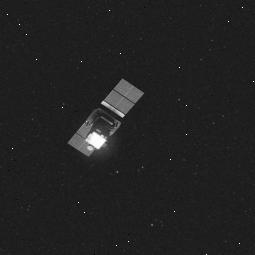soho: (60, 72, 151, 167)
